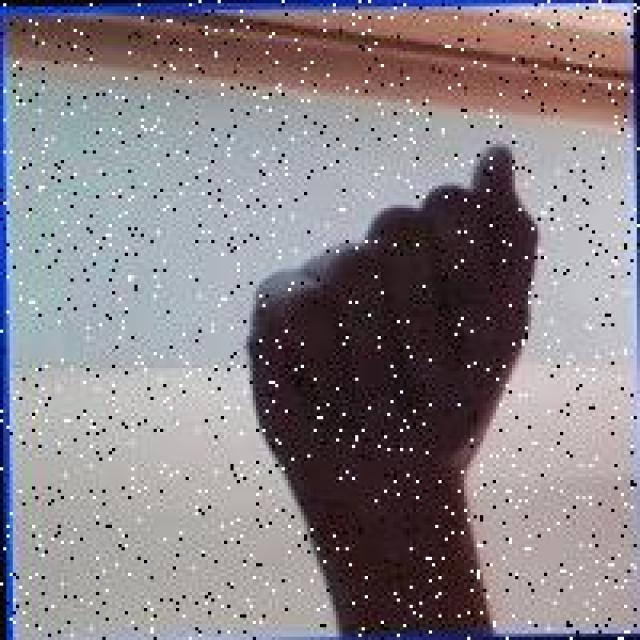A: (226, 136, 552, 581)
